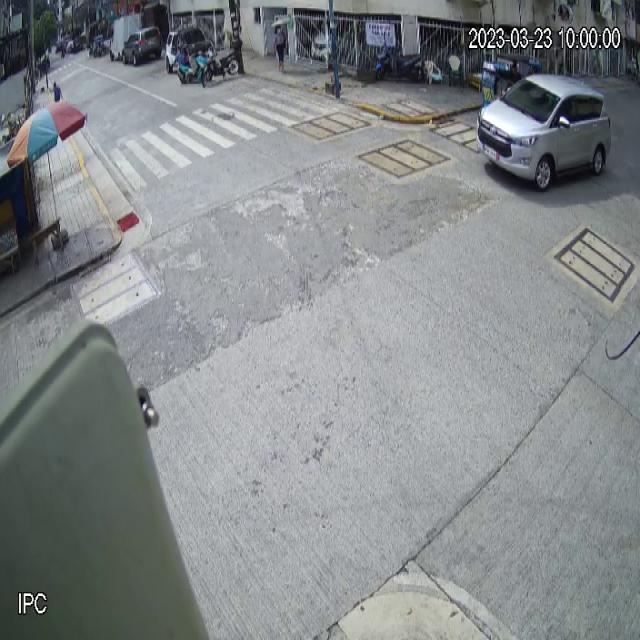Car: (477, 71, 613, 191)
